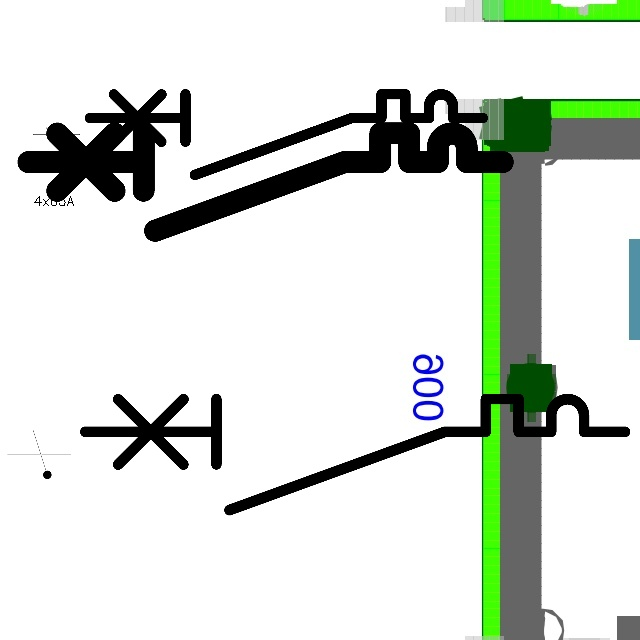interruptor_termomagnetico: (71, 385, 638, 524), (16, 121, 515, 243), (79, 84, 492, 185)
